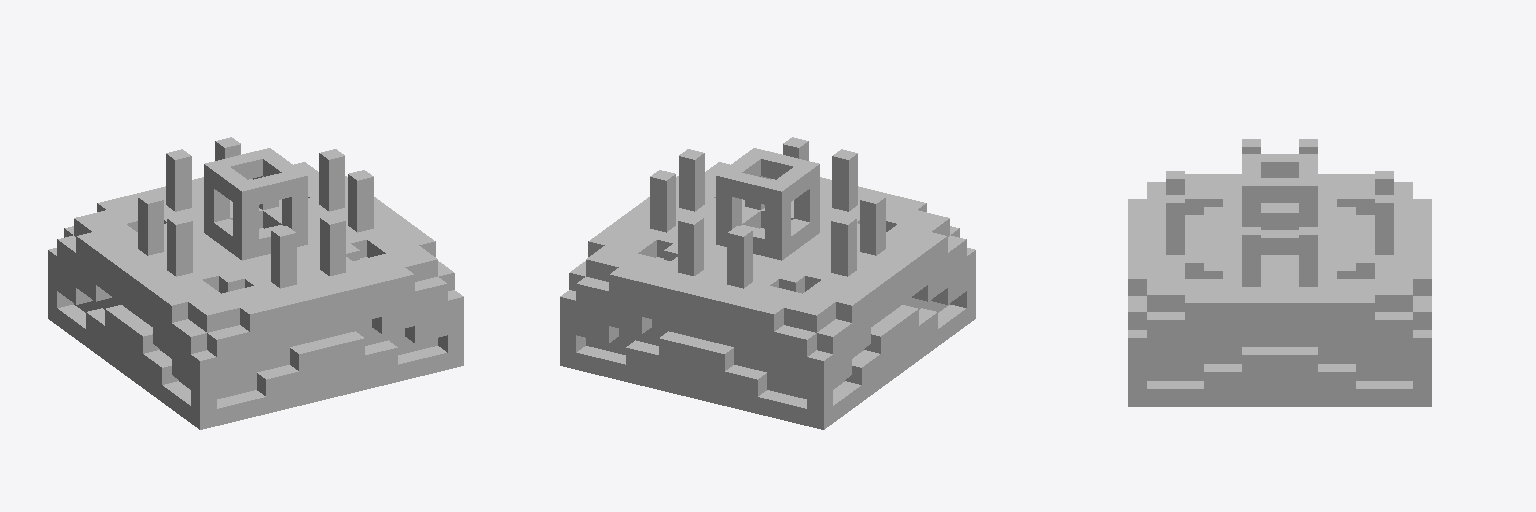
Rendered from blackhole projector.obj.
3 views of the same model, side by side, from view 1: azimuth 30°, elevation 25°; view 2: azimuth 150°, elevation 25°; view 3: azimuth 270°, elevation 25° (orthographic).
Visible parts, largest first — view 1: blackhole_projector; view 2: blackhole_projector; view 3: blackhole_projector.
Boxes of the visible parts, x1,y1,x2,y2 form: blackhole_projector: [48, 137, 463, 429]; blackhole_projector: [560, 137, 975, 429]; blackhole_projector: [1128, 139, 1431, 406].
Size of the model in its own units: 0.992 by 0.62 by 0.992.